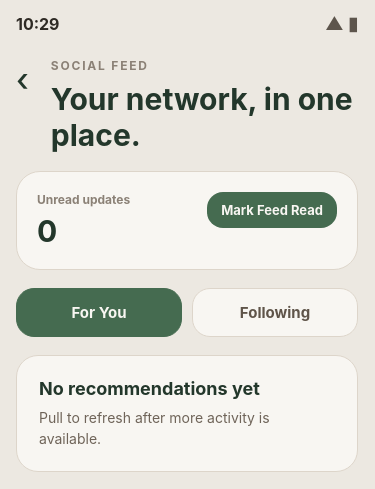
Test: SocialFeedScreen › shows the empty state when a tab has no posts
The image size is (375, 489).
Expected: the text "No recommendations yet" is shown, x1=39 y1=378 x2=260 y2=399
Click the text "Following": (275, 312) x1=240 y1=303 x2=310 y2=322
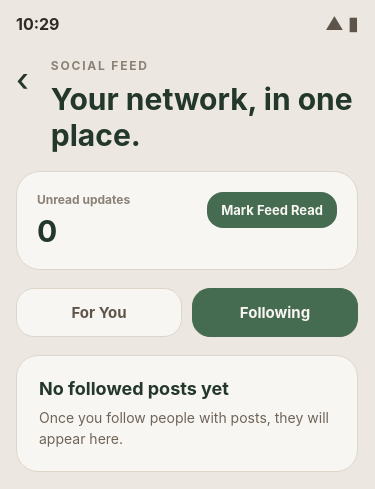
Expected: the text "No followed posts yet" is shown, x1=39 y1=378 x2=229 y2=399
